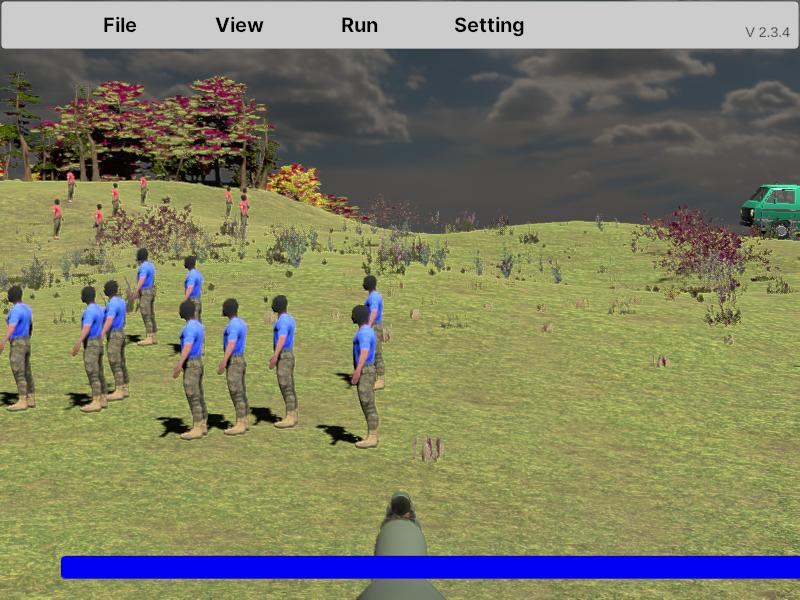Human: (173, 299, 209, 439), (216, 297, 251, 436), (72, 285, 109, 411), (349, 304, 380, 448), (0, 284, 34, 411), (267, 294, 297, 428), (100, 278, 130, 402), (360, 273, 384, 393), (362, 274, 384, 395), (132, 247, 157, 345), (183, 254, 203, 352)
car: (740, 183, 800, 240)
